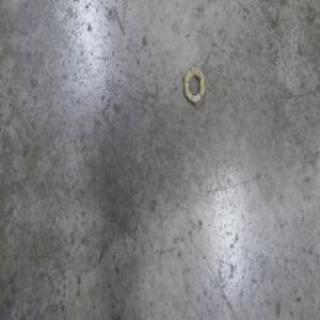Nuttrack_idkeyframe: (182, 61, 205, 105)
